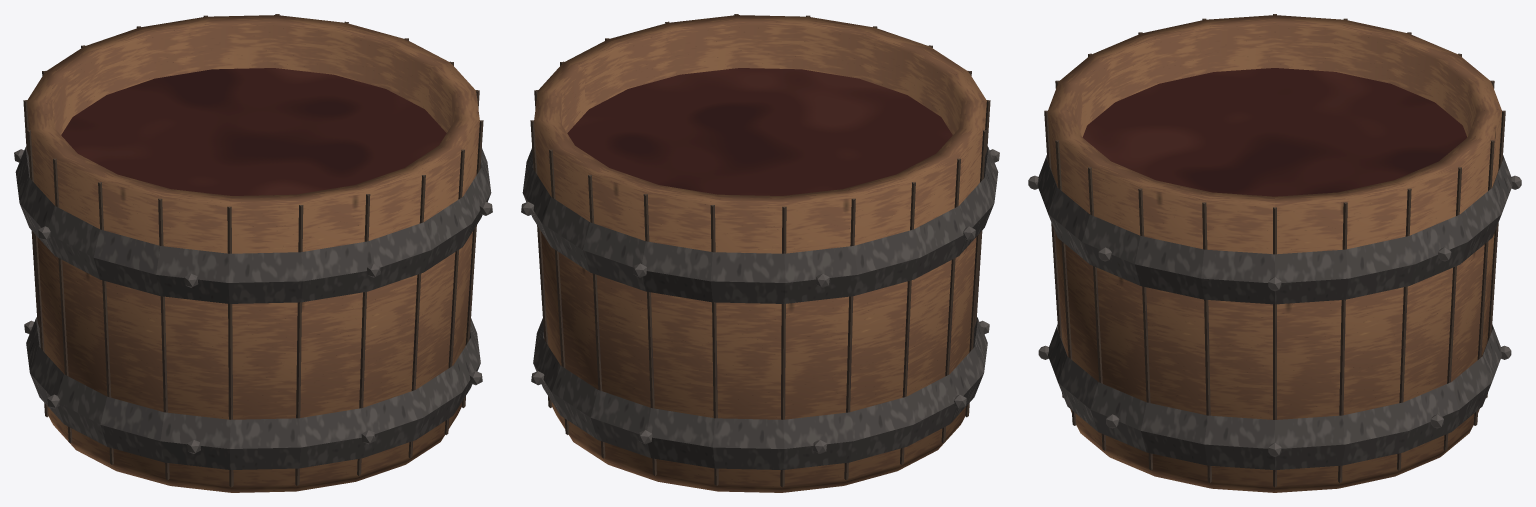
The model's file is tanning_vat.glb.
3 views of the same model, side by side, from view 1: azimuth 30°, elevation 25°; view 2: azimuth 150°, elevation 25°; view 3: azimuth 270°, elevation 25° (orthographic).
Visible parts, largest first — view 1: tanning_vat_vat_body, tanning_vat_hoops, tanning_vat_liquid_surface; view 2: tanning_vat_vat_body, tanning_vat_hoops, tanning_vat_liquid_surface; view 3: tanning_vat_vat_body, tanning_vat_hoops, tanning_vat_liquid_surface.
Part boxes in pixels (x1,y1,x2,y2): tanning_vat_vat_body: (23, 14, 483, 492); tanning_vat_hoops: (14, 146, 492, 469); tanning_vat_liquid_surface: (61, 68, 446, 195); tanning_vat_vat_body: (530, 14, 990, 492); tanning_vat_hoops: (521, 146, 999, 469); tanning_vat_liquid_surface: (567, 68, 952, 195); tanning_vat_vat_body: (1044, 14, 1505, 492); tanning_vat_hoops: (1028, 155, 1521, 469); tanning_vat_liquid_surface: (1082, 68, 1467, 196).
Size of what is drawn, in the model's own units: 1 by 0.6603 by 0.9994.
Materials: 4 (4 with a texture image).
